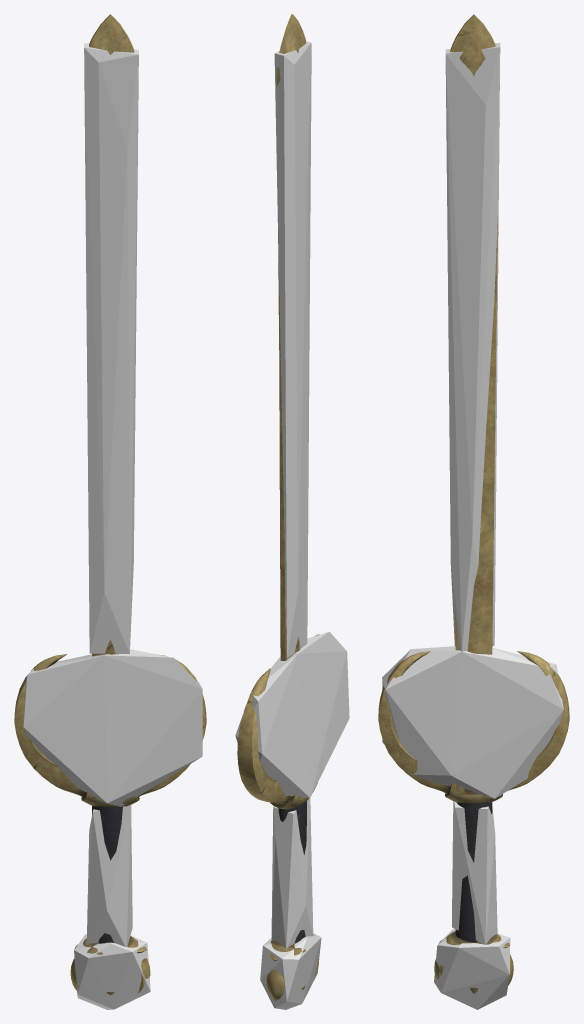
The model's file is SM_Weapons_01.fbx.
The picture shows the model from 3 angles, left to right: view 1: azimuth 90°, elevation 25°; view 2: azimuth 150°, elevation 25°; view 3: azimuth 270°, elevation 25°; orthographic projection.
Parts seen in each view (by area): view 1: SM_Weapons_01_ConvexHulls, SM_Weapons_01_LOD0; view 2: SM_Weapons_01_ConvexHulls, SM_Weapons_01_LOD0; view 3: SM_Weapons_01_ConvexHulls, SM_Weapons_01_LOD0.
Part boxes in pixels (x1,y1,x2,y2): SM_Weapons_01_ConvexHulls: (23, 43, 202, 1009); SM_Weapons_01_LOD0: (14, 14, 206, 995); SM_Weapons_01_ConvexHulls: (235, 41, 349, 1009); SM_Weapons_01_LOD0: (237, 14, 319, 1000); SM_Weapons_01_ConvexHulls: (382, 43, 563, 1009); SM_Weapons_01_LOD0: (378, 14, 569, 993).
Size of the model in its own units: 0.206 by 0.8729 by 4.99.
